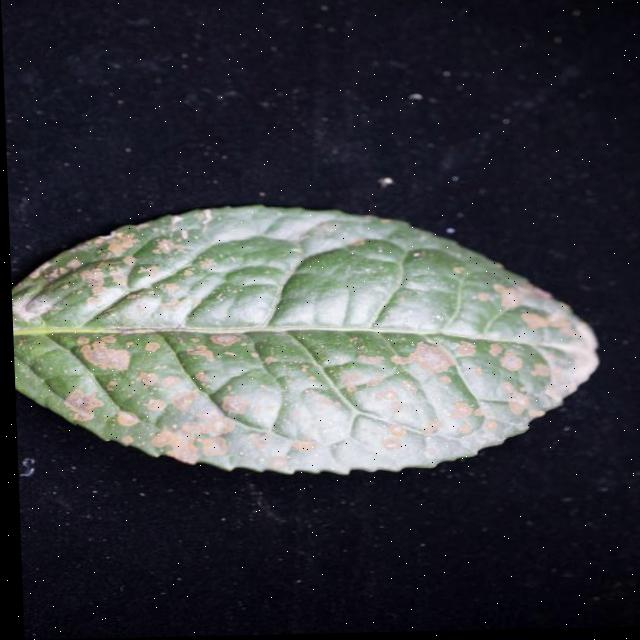Tea red rust: (43, 217, 571, 437)
